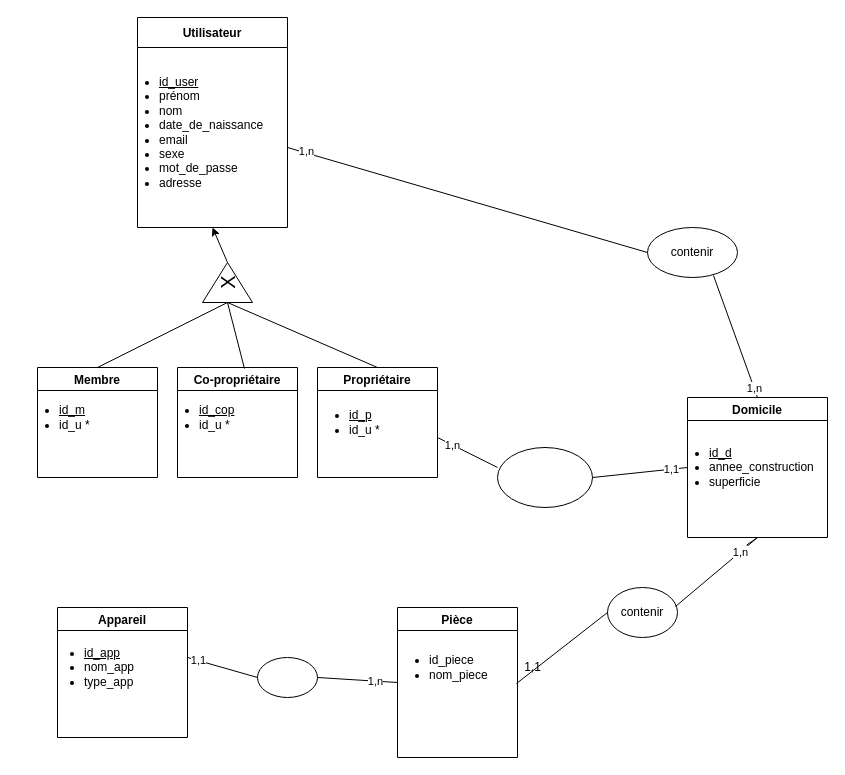
Some shapes in this 845 by 775 pixel diagram are drawn without their labels. Each missing label, with the centre of its shape:
"avoir" goes at (544,477).
"se trouver" goes at (287,677).
